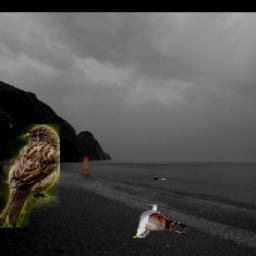Cuckoo: (132, 203, 188, 238)
Sparrow: (0, 124, 60, 228)
